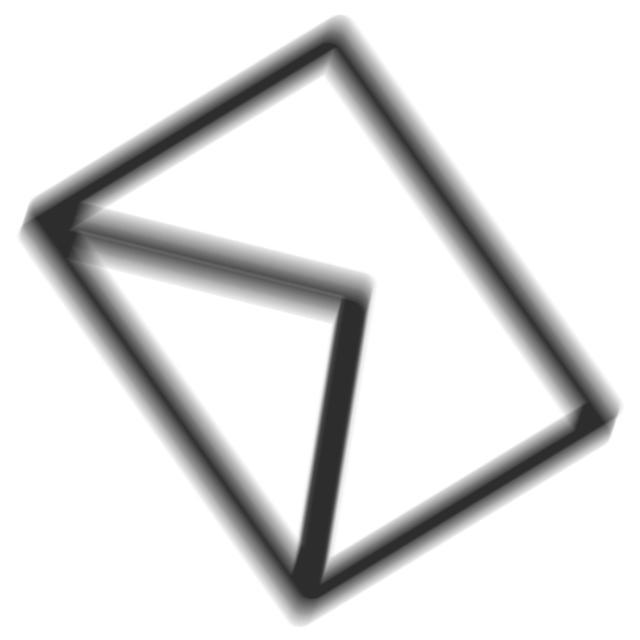letter: (11, 8, 633, 634)
